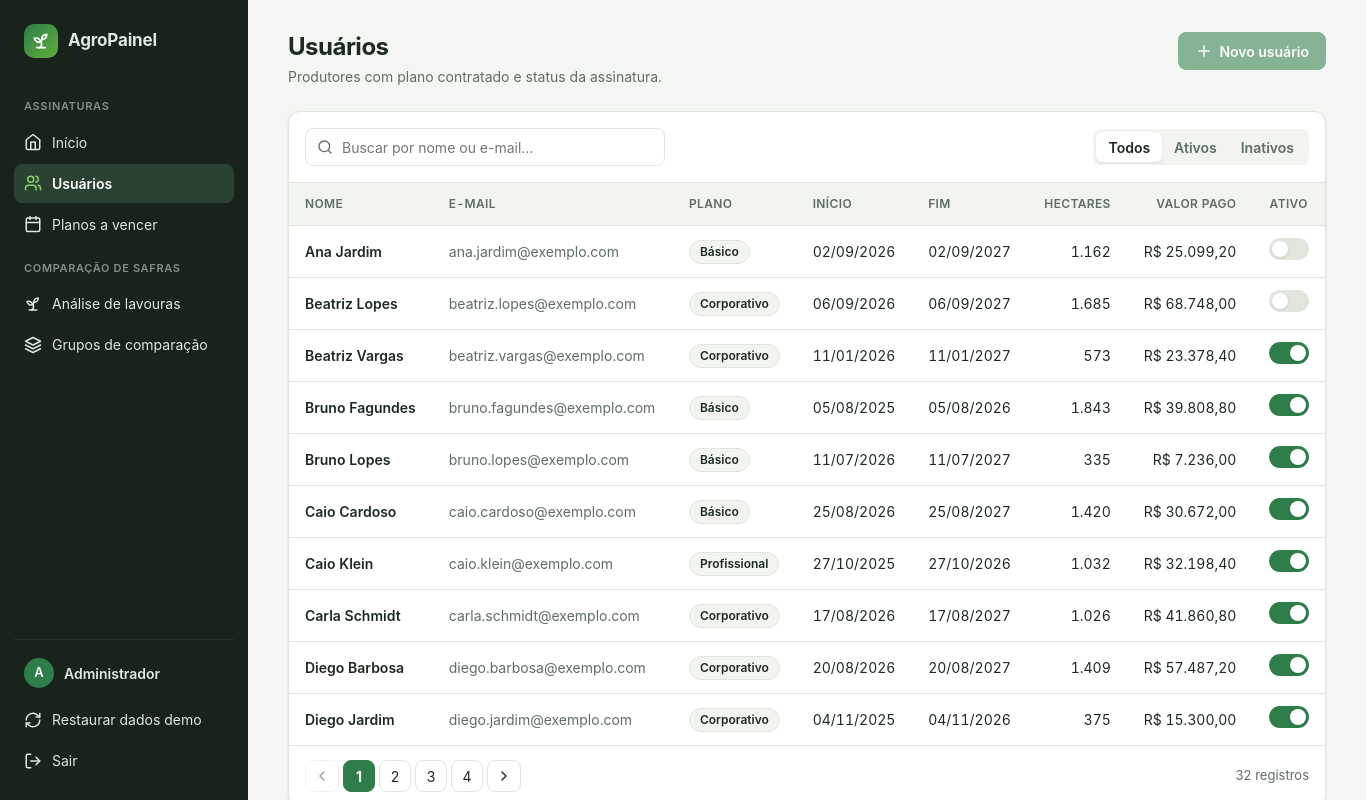
Usuários › filtra por status
Click the button "inativos". click: [1268, 147]
box: [1229,132,1306,162]
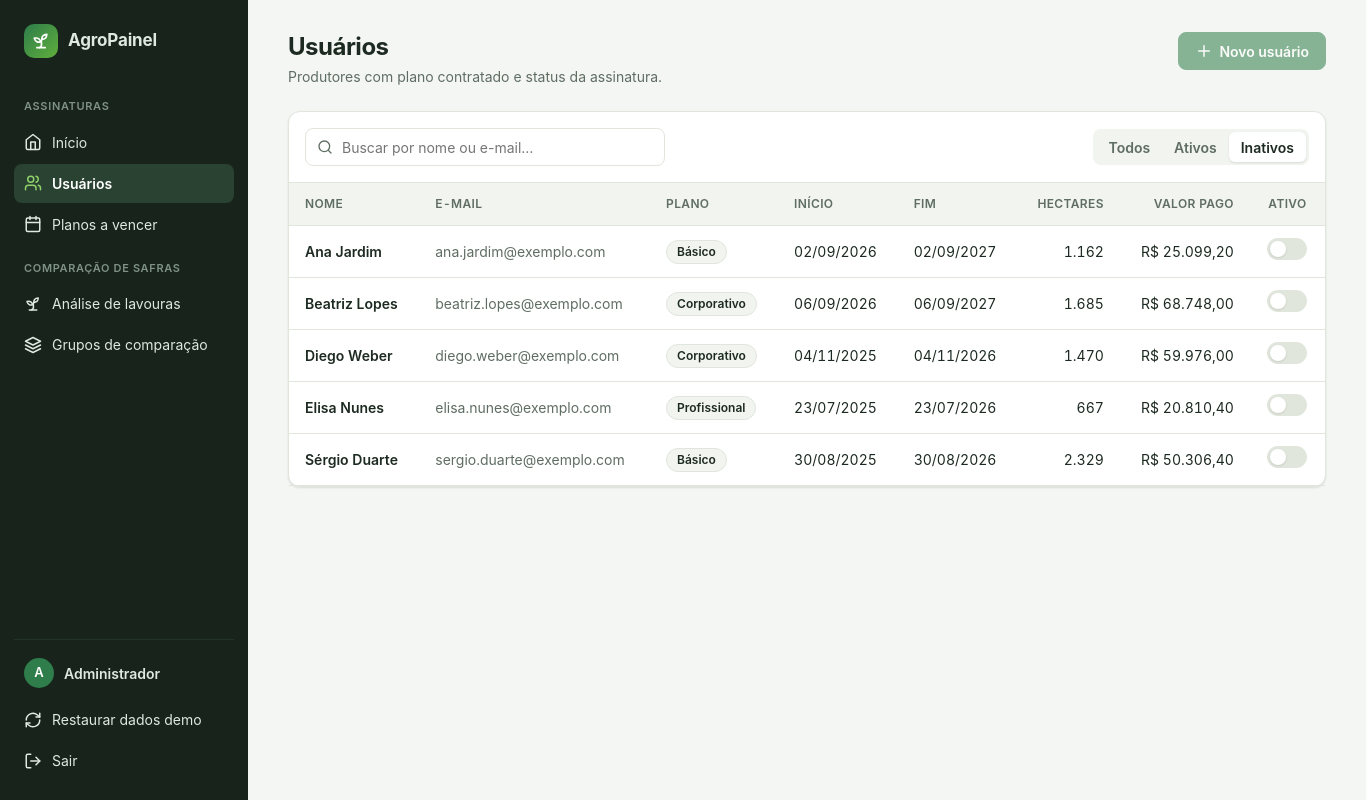
Expected: the number of switches is 5, [1268,238,1308,260]; [1268,290,1308,312]; [1268,342,1308,364]; [1268,394,1308,416]; [1268,446,1308,468]
